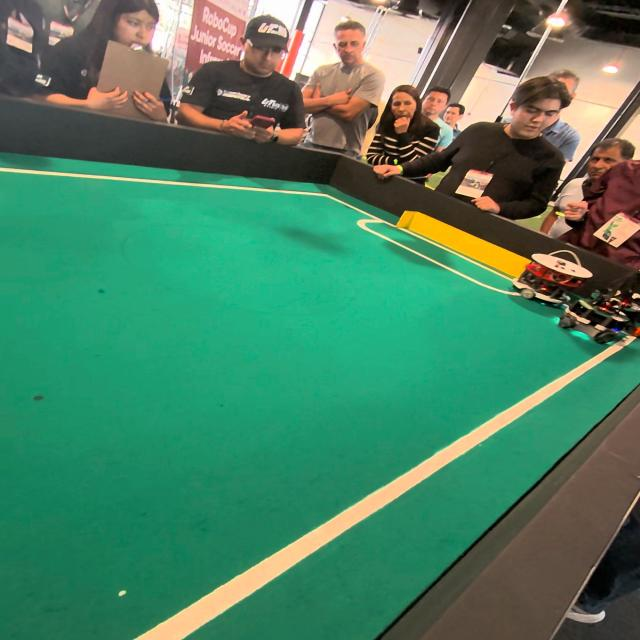Robot: (561, 277, 640, 350), (513, 251, 579, 312)
